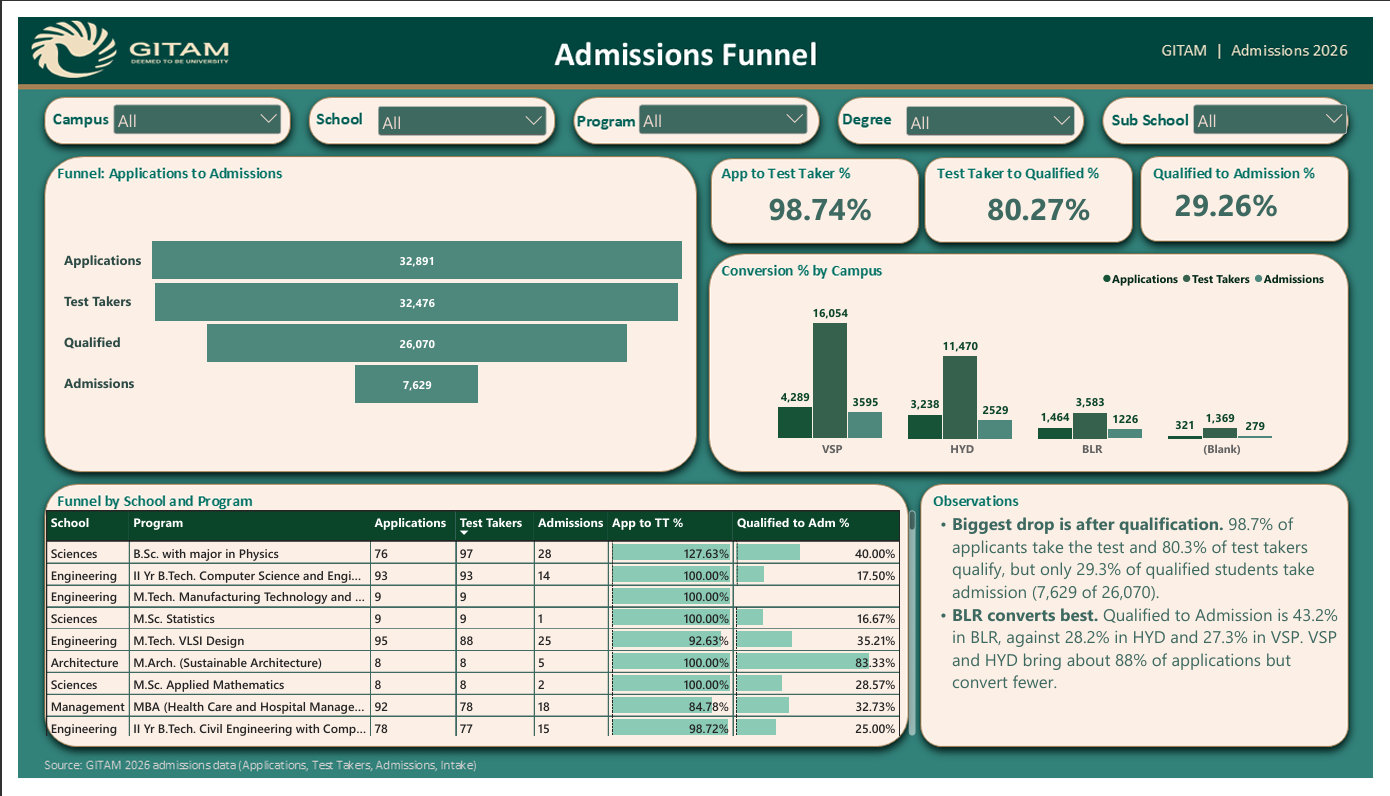

What the dashboard file says about the page in this screenshot:
{"tool":"powerbi","page":{"name":"Admissions Funnel","canvas":[1920,1080],"ordinal":1},"visuals":[{"type":"funnel","fields":{"Category":["Funnel Stages.Stage"],"Y":["Measure.Funnel Value"]},"box":[47.9,220.9,912.9,423.3],"z":0},{"type":"cardVisual","fields":{"Data":["Measure.App to TT %"]},"box":[1038,220,196,98],"z":1000},{"type":"cardVisual","fields":{"Data":["Measure.TT to Qualified %"]},"box":[1348,220,196,98],"z":2000},{"type":"cardVisual","fields":{"Data":["Measure.Qualified to Adm %"]},"box":[1614,214,196,98],"z":3000},{"type":"clusteredColumnChart","fields":{"Category":["Intake.Campus"],"Y":["Measure.Applications","Measure.Test Takers","Measure.Admissions"]},"box":[986.5,338.7,885.3,305.5],"z":4000},{"type":"tableEx","fields":{"Values":["Intake.School","Intake.Program","Measure.Applications Display","Measure.Test Takers Display","Measure.Admissions Display","Measure.App to TT %","Measure.Qualified to Adm %"]},"box":[22.1,684.7,1264.4,349.7],"z":5000},{"type":"slicer","fields":{"Values":["Intake.Campus"]},"box":[128.8,117.8,248.5,57.1],"z":6000},{"type":"slicer","fields":{"Values":["Intake.Program"]},"box":[874.2,117.8,248.5,57.1],"z":7000},{"type":"slicer","fields":{"Values":["Intake.School"]},"box":[504.3,119.6,248.5,57.1],"z":8000},{"type":"slicer","fields":{"Values":["Intake.Degree"]},"box":[1253.4,119.6,248.5,57.1],"z":9000},{"type":"slicer","fields":{"Values":["Intake.Sub School"]},"box":[1660.1,117.8,228.2,57.1],"z":10000},{"type":"textbox","box":[1286.5,701.2,585.3,314.7],"z":10001}]}

Visuals, with their boxes in screenshot pixels (x1, y1, x2, y2), scaled from the page's 1920x1080 canvas onto the 1390x796 screenshot:
funnel - Funnel Stages.Stage x Measure.Funnel Value: (left=35, top=163, right=696, bottom=475)
cardVisual - Measure.App to TT %: (left=751, top=162, right=893, bottom=234)
cardVisual - Measure.TT to Qualified %: (left=976, top=162, right=1118, bottom=234)
cardVisual - Measure.Qualified to Adm %: (left=1168, top=158, right=1310, bottom=230)
clusteredColumnChart - Intake.Campus x Measure.Applications: (left=714, top=250, right=1355, bottom=475)
tableEx - Intake.School x Intake.Program: (left=16, top=505, right=931, bottom=762)
slicer - Intake.Campus: (left=93, top=87, right=273, bottom=129)
slicer - Intake.Program: (left=633, top=87, right=813, bottom=129)
slicer - Intake.School: (left=365, top=88, right=545, bottom=130)
slicer - Intake.Degree: (left=907, top=88, right=1087, bottom=130)
slicer - Intake.Sub School: (left=1202, top=87, right=1367, bottom=129)
textbox: (left=931, top=517, right=1355, bottom=749)
